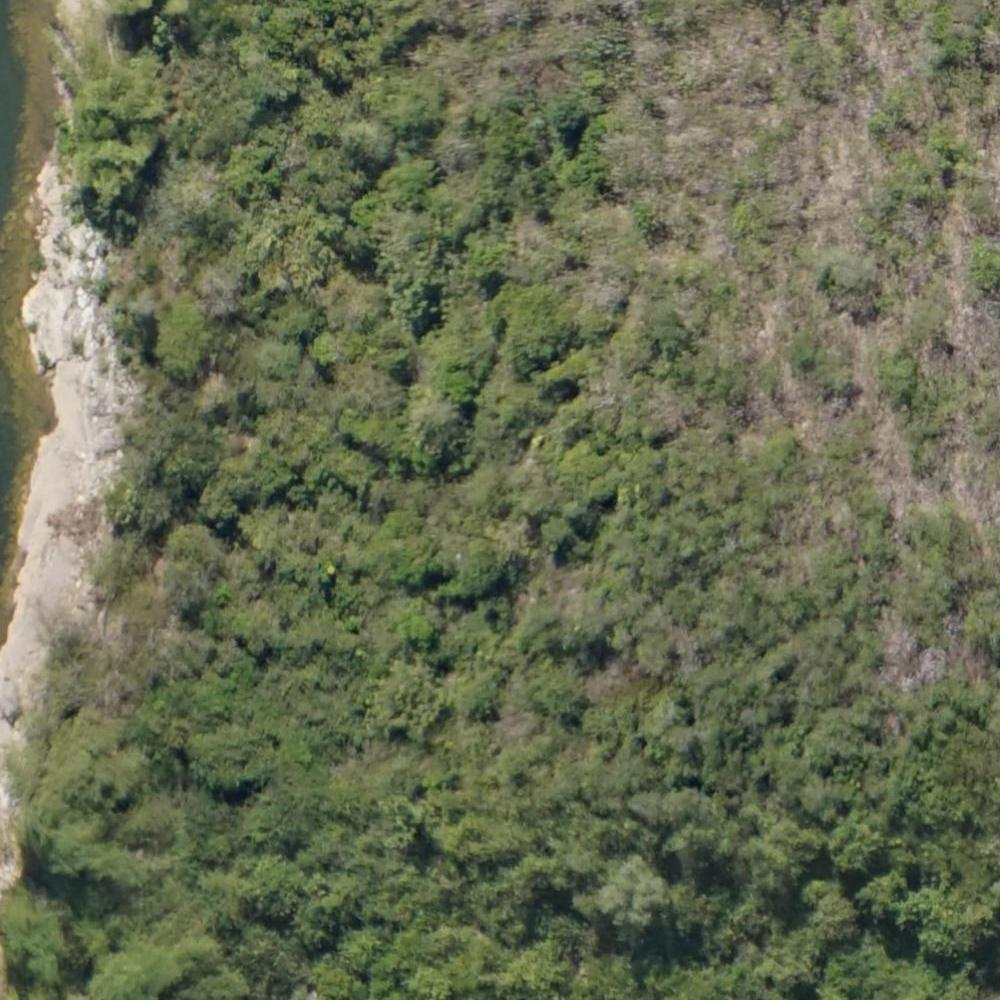tree: (246, 189, 325, 283), (542, 442, 613, 512), (505, 289, 568, 364), (151, 306, 215, 376), (194, 725, 262, 790), (753, 927, 823, 990), (609, 859, 668, 930), (374, 665, 433, 728), (409, 390, 466, 455), (249, 854, 305, 916), (162, 524, 226, 575), (382, 74, 432, 132), (451, 536, 501, 592), (433, 354, 485, 404), (531, 674, 581, 725), (809, 890, 860, 940), (371, 796, 422, 844), (173, 425, 219, 478), (383, 162, 433, 210), (644, 307, 692, 355), (226, 141, 269, 192), (829, 822, 876, 866), (466, 236, 518, 275), (393, 283, 439, 326), (560, 605, 599, 654), (463, 674, 502, 715), (965, 245, 1000, 288), (546, 98, 585, 136), (309, 329, 338, 366), (537, 515, 567, 545)
